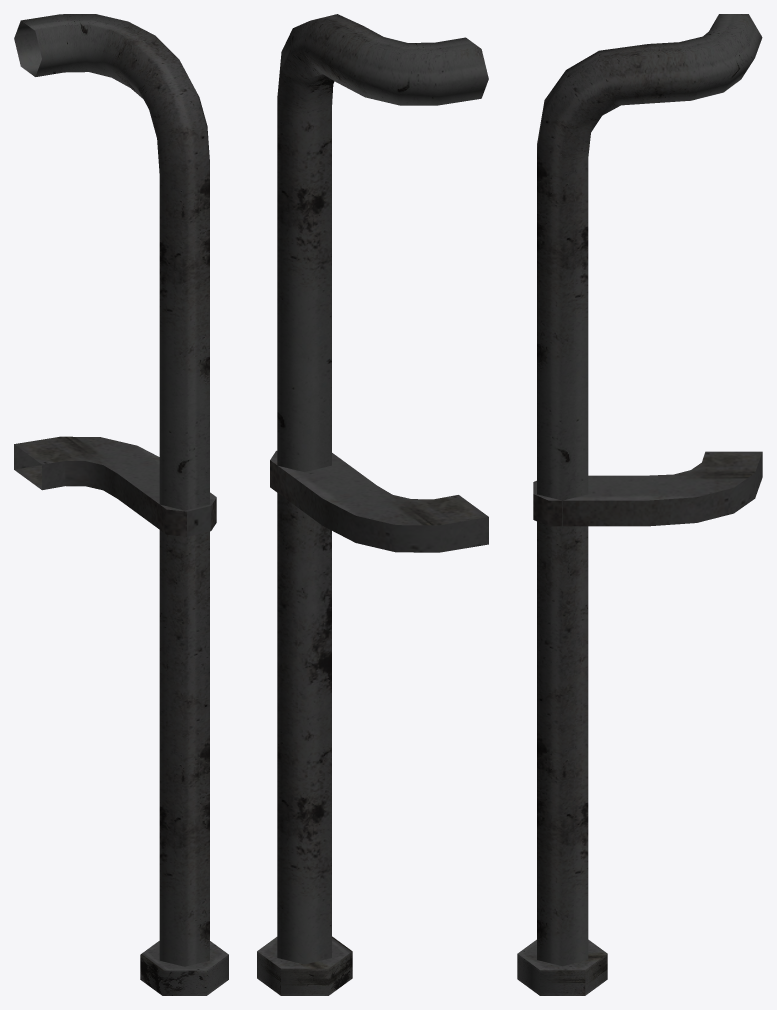
Rendered from cs_handrail_90_left_lod0.glb.
The picture shows the model from 3 angles, left to right: view 1: azimuth 30°, elevation 25°; view 2: azimuth 210°, elevation 25°; view 3: azimuth 270°, elevation 25°; orthographic projection. The views are drawn at different scales.
Parts seen in each view (by area): view 1: surf0; view 2: surf0; view 3: surf0.
Part boxes in pixels (<box>): surf0: <box>14,14,228,995</box>; surf0: <box>257,14,488,995</box>; surf0: <box>517,14,762,995</box>.
Bounding box in the file's own units: 4.37 × 35.91 × 8.58.
